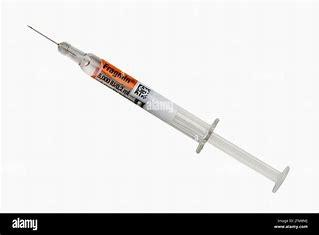Syringe: (18, 20, 296, 199)
